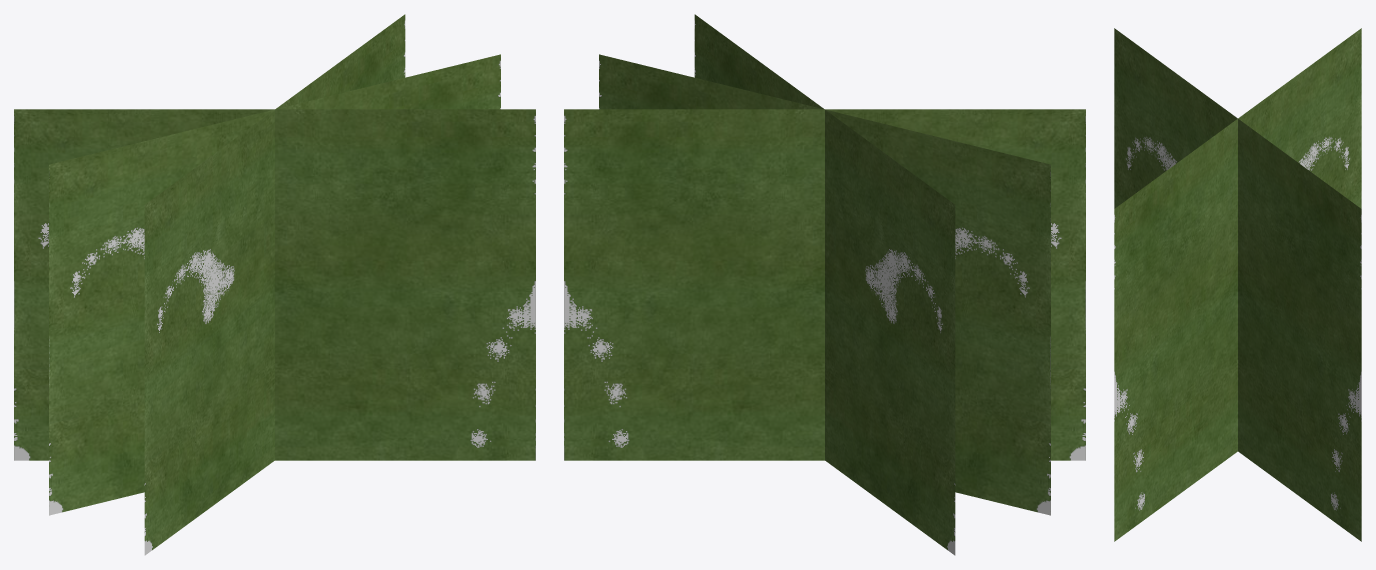
File: grass.fbx
The picture shows the model from 3 angles, left to right: view 1: azimuth 30°, elevation 25°; view 2: azimuth 150°, elevation 25°; view 3: azimuth 270°, elevation 25°; orthographic projection. The views are drawn at different scales.
Visible parts, largest first — view 1: polySurface429; view 2: polySurface429; view 3: polySurface429.
Part boxes in pixels (bbox=[...]): polySurface429: bbox=[14, 14, 535, 555]; polySurface429: bbox=[564, 14, 1085, 555]; polySurface429: bbox=[1114, 28, 1361, 541].
Size of the model in its own units: 80.41 by 59.69 by 40.21.
